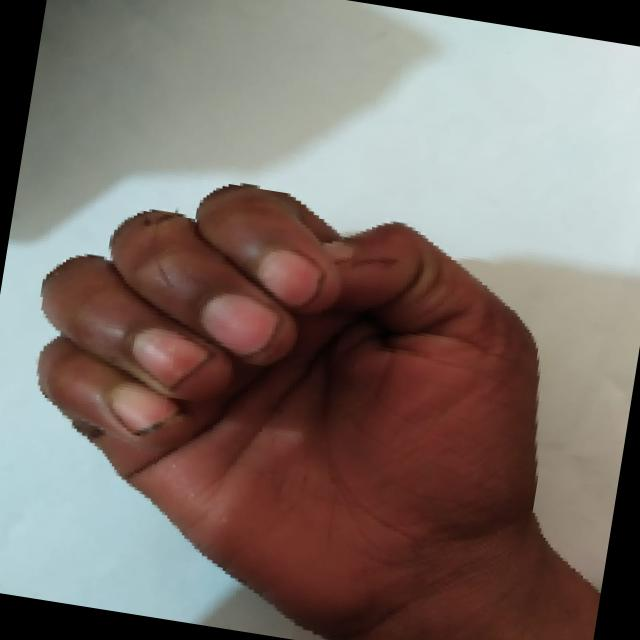Nail: (201, 294, 280, 356), (132, 328, 205, 386), (256, 250, 324, 306), (110, 382, 178, 434), (324, 240, 353, 261)
